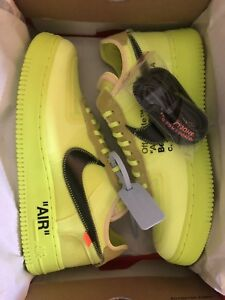Air Force One Volt: (5, 26, 137, 278), (96, 19, 218, 276)
